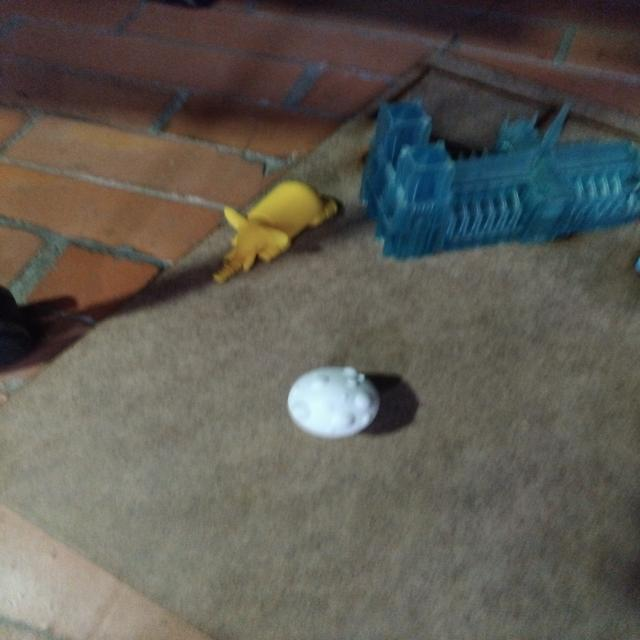Hongo: (274, 358, 392, 440)
